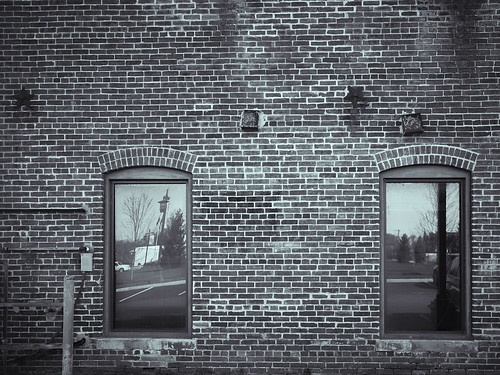window: (369, 153, 478, 348), (102, 161, 199, 344)
